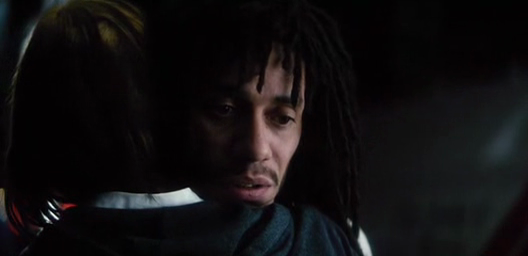cu: (1, 1, 528, 256)
face: (190, 61, 305, 207)
ots: (1, 1, 360, 256)
person: (155, 1, 372, 256)
